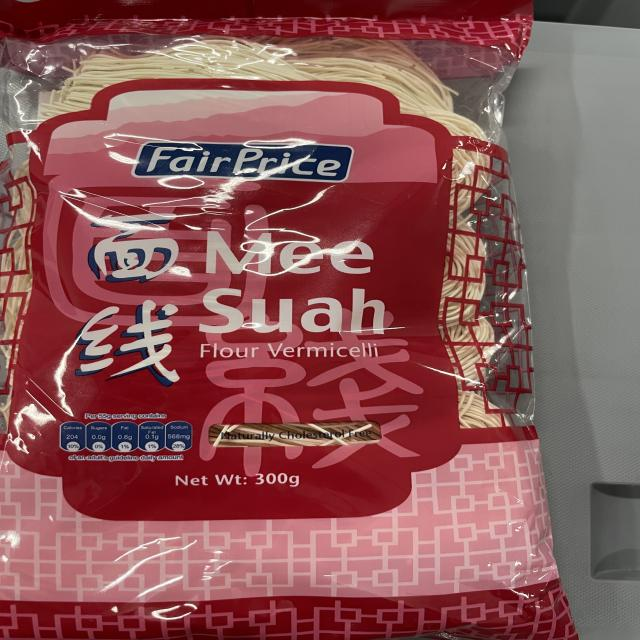object_name: (5, 1, 553, 636)
